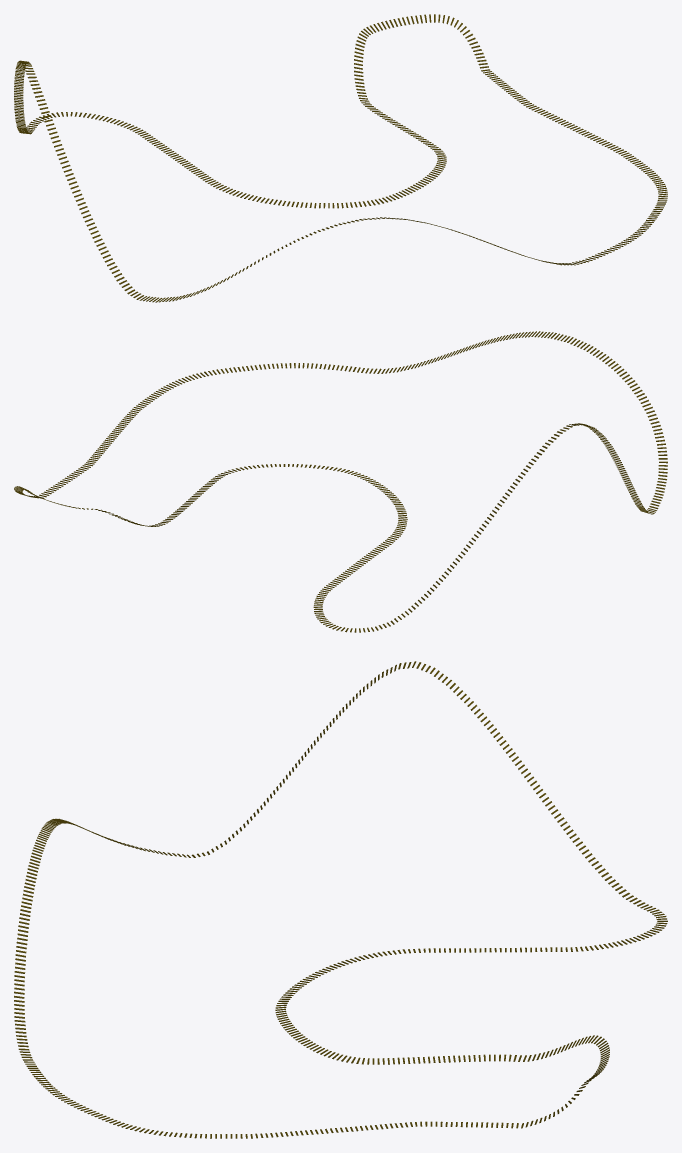
File: rollercoaster.fbx
3 renders of one model, top to bottom at view 1: azimuth 30°, elevation 25°; view 2: azimuth 150°, elevation 25°; view 3: azimuth 270°, elevation 25°, orthographic. The views are drawn at different scales.
Parts seen in each view (by area): view 1: Latte; view 2: Latte; view 3: Latte.
Part boxes in pixels (x1,y1,x2,y2): Latte: (14,14,667,302); Latte: (14,331,667,632); Latte: (14,661,667,1138).
Size of the model in its own units: 30898 by 9078 by 28877.
